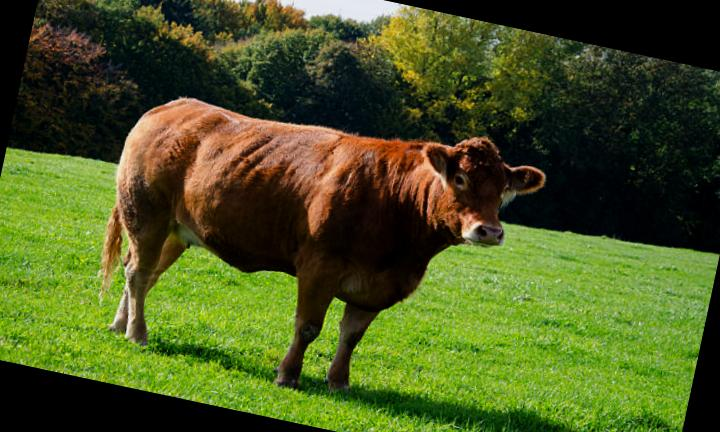Charolais: (102, 98, 545, 389)
